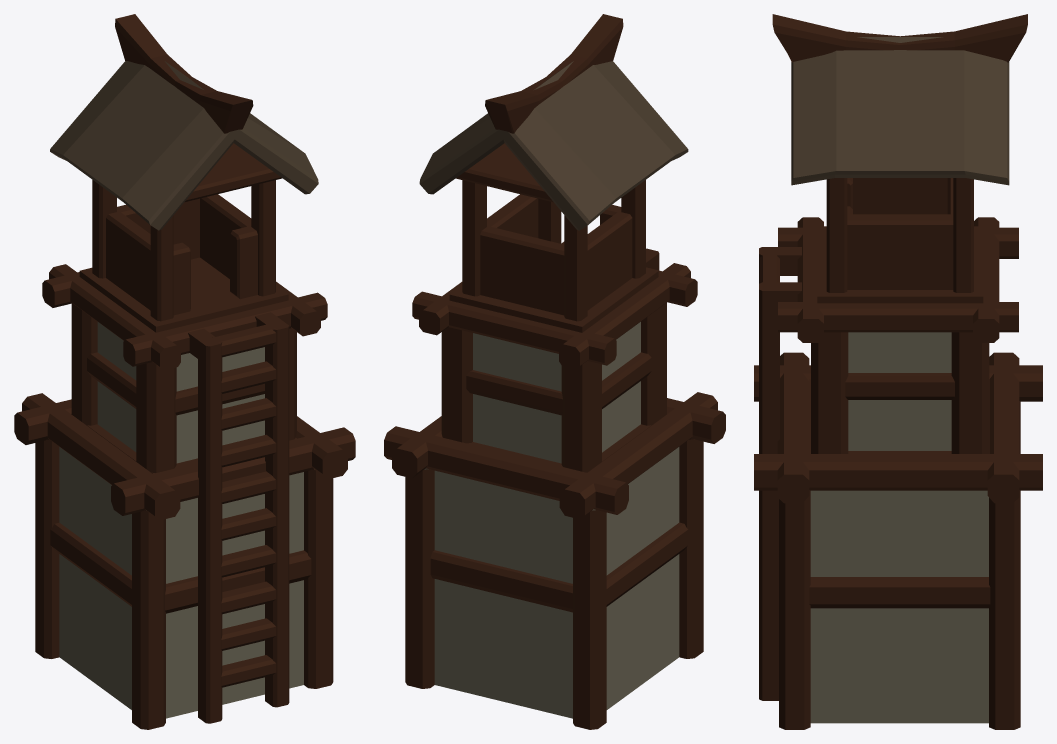
The model's file is TorreComplexa.fbx.
The picture shows the model from 3 angles, left to right: view 1: azimuth 30°, elevation 25°; view 2: azimuth 150°, elevation 25°; view 3: azimuth 270°, elevation 25°; orthographic projection. The views are drawn at different scales.
Visible parts, largest first — view 1: TorreComplexa_LOD0; view 2: TorreComplexa_LOD0; view 3: TorreComplexa_LOD0.
Part boxes in pixels (x1=…): TorreComplexa_LOD0: x1=14, y1=14, x2=355, y2=729; TorreComplexa_LOD0: x1=384, y1=14, x2=725, y2=729; TorreComplexa_LOD0: x1=754, y1=14, x2=1042, y2=729.
Size of what is drawn, in the model's own units: 550 by 1386 by 550.
